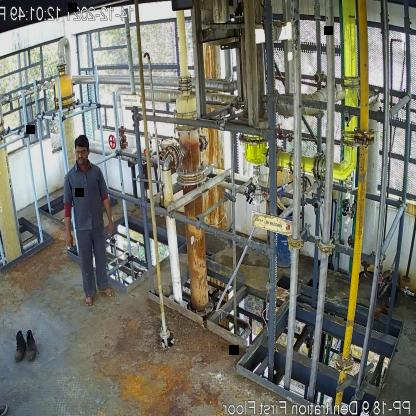no_shoes: (99, 287, 116, 297), (84, 295, 96, 309)
shoes: (22, 328, 38, 363), (12, 331, 26, 361)
